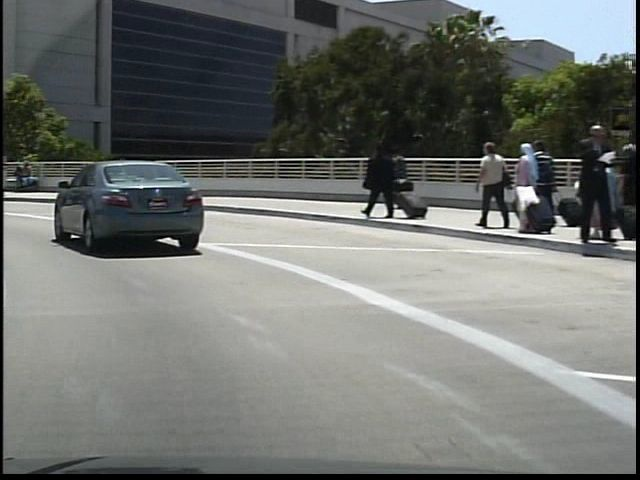person: (565, 119, 609, 244), (467, 136, 508, 231), (355, 139, 393, 221), (386, 145, 407, 211)
